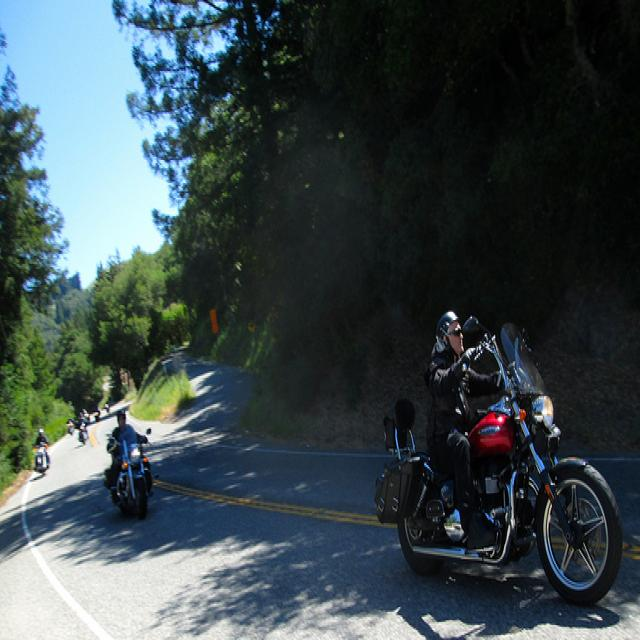motor: (374, 303, 629, 601), (110, 424, 154, 519), (33, 444, 49, 478), (71, 417, 81, 429), (81, 431, 86, 445), (68, 426, 74, 437), (94, 411, 99, 422), (84, 413, 89, 420)
